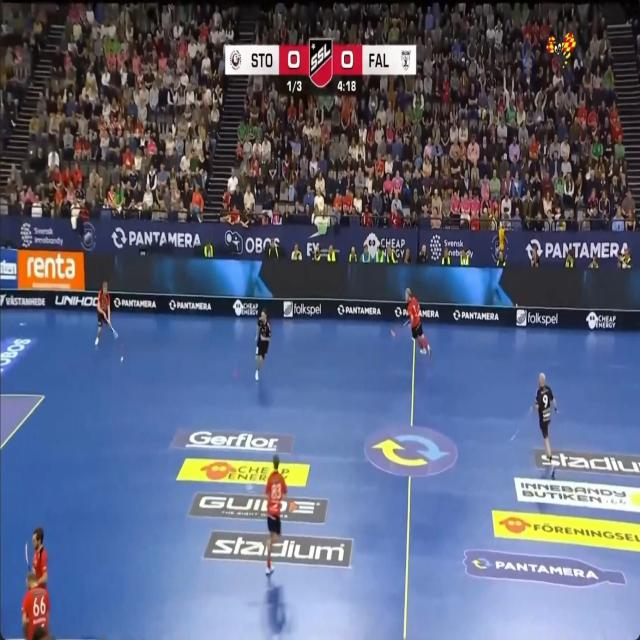Balls: (391, 329, 395, 336), (120, 356, 123, 362)
player: (265, 455, 286, 575), (532, 372, 556, 463), (22, 572, 49, 639), (405, 288, 430, 355), (255, 309, 271, 380), (31, 526, 47, 588), (95, 281, 110, 346), (551, 465, 554, 477)
stick: (107, 320, 118, 338), (26, 544, 30, 570), (404, 319, 410, 326)
